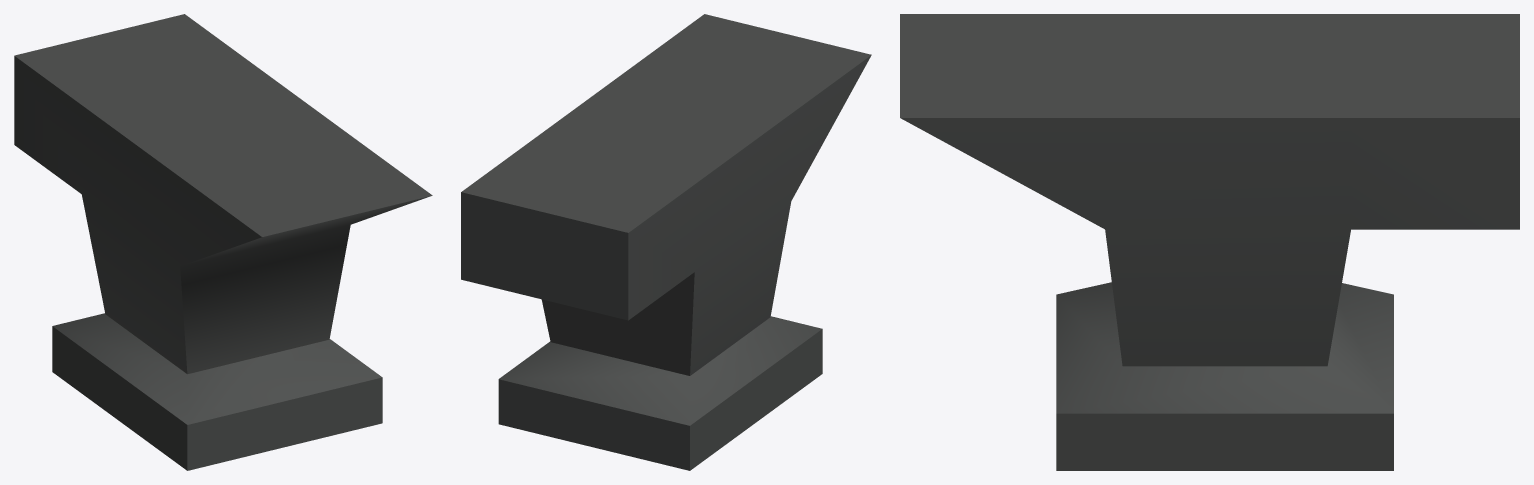
Rendered from Anvil.fbx.
3 views of the same model, side by side, from view 1: azimuth 30°, elevation 25°; view 2: azimuth 150°, elevation 25°; view 3: azimuth 270°, elevation 25° (orthographic). The views are drawn at different scales.
Parts seen in each view (by area): view 1: Anvil; view 2: Anvil; view 3: Anvil.
Part boxes in pixels (<box>): Anvil: <box>14,14,432,470</box>; Anvil: <box>461,14,871,470</box>; Anvil: <box>900,14,1519,470</box>.
Size of the model in its own units: 0.1648 by 0.2231 by 0.3628.
